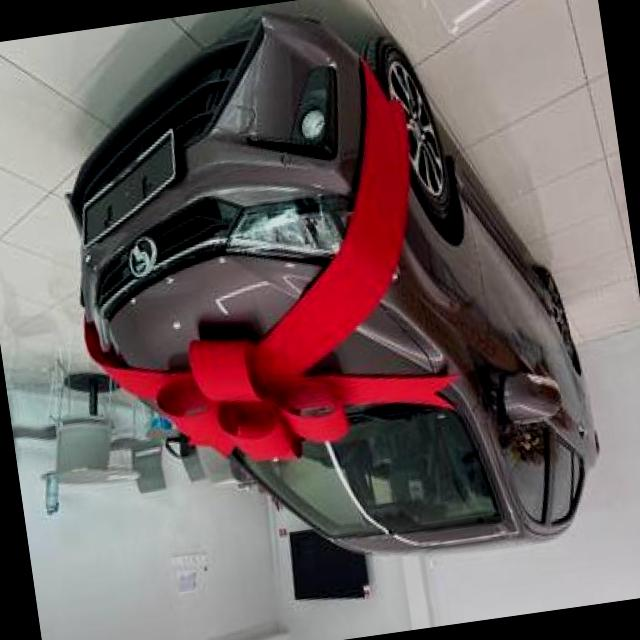PeroduaBezza: (41, 0, 613, 605)
